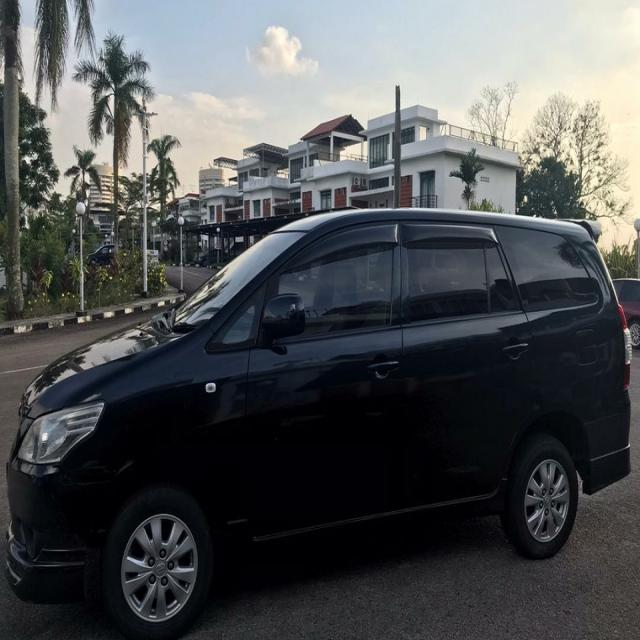light_vehicle: (4, 206, 634, 634)
